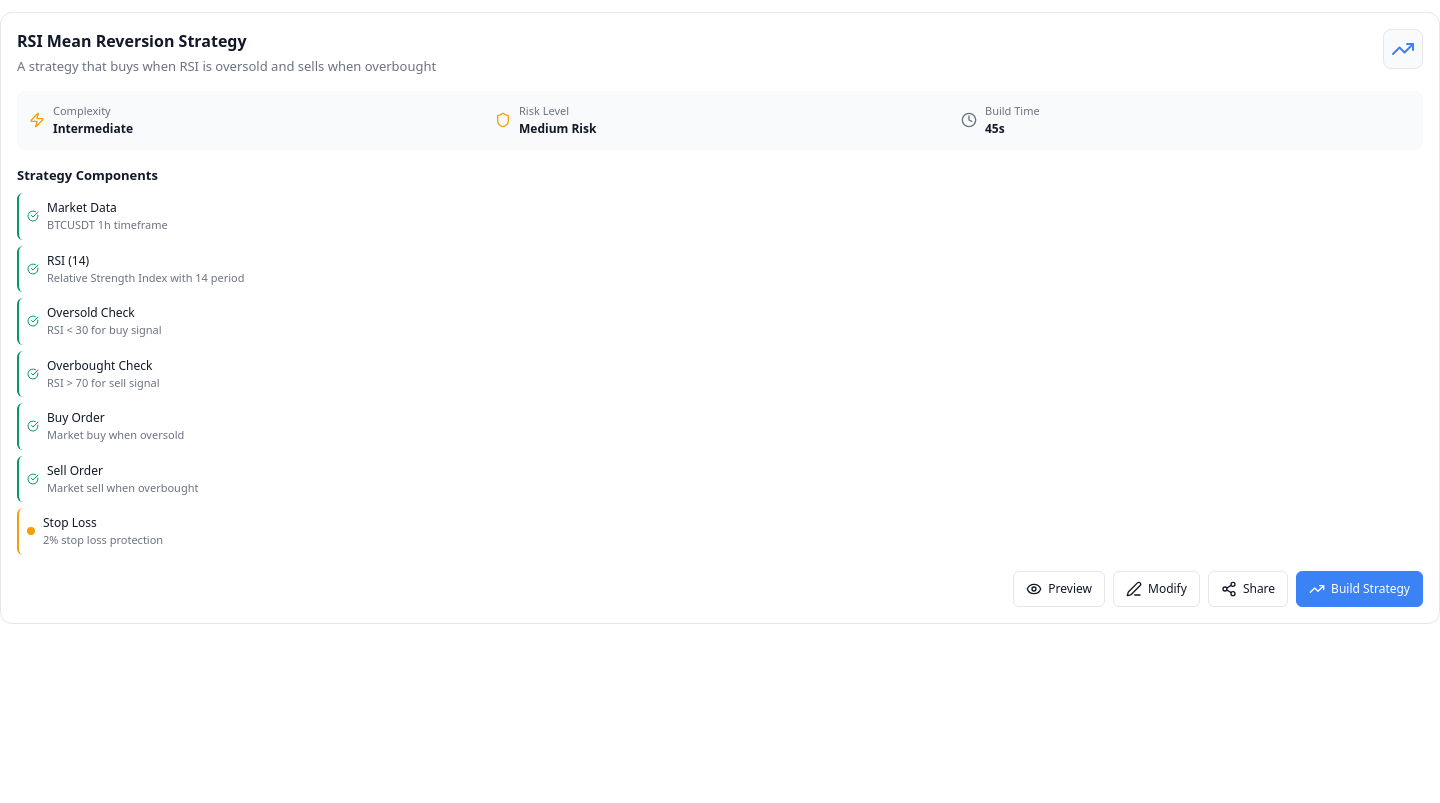
Test: StrategyPreview Component › opens exporter when share button is clicked
The width and height of the screenshot is (1440, 803).
Note: Click share button
Click the button "Share": x=1248, y=589 [1208, 571, 1288, 607]
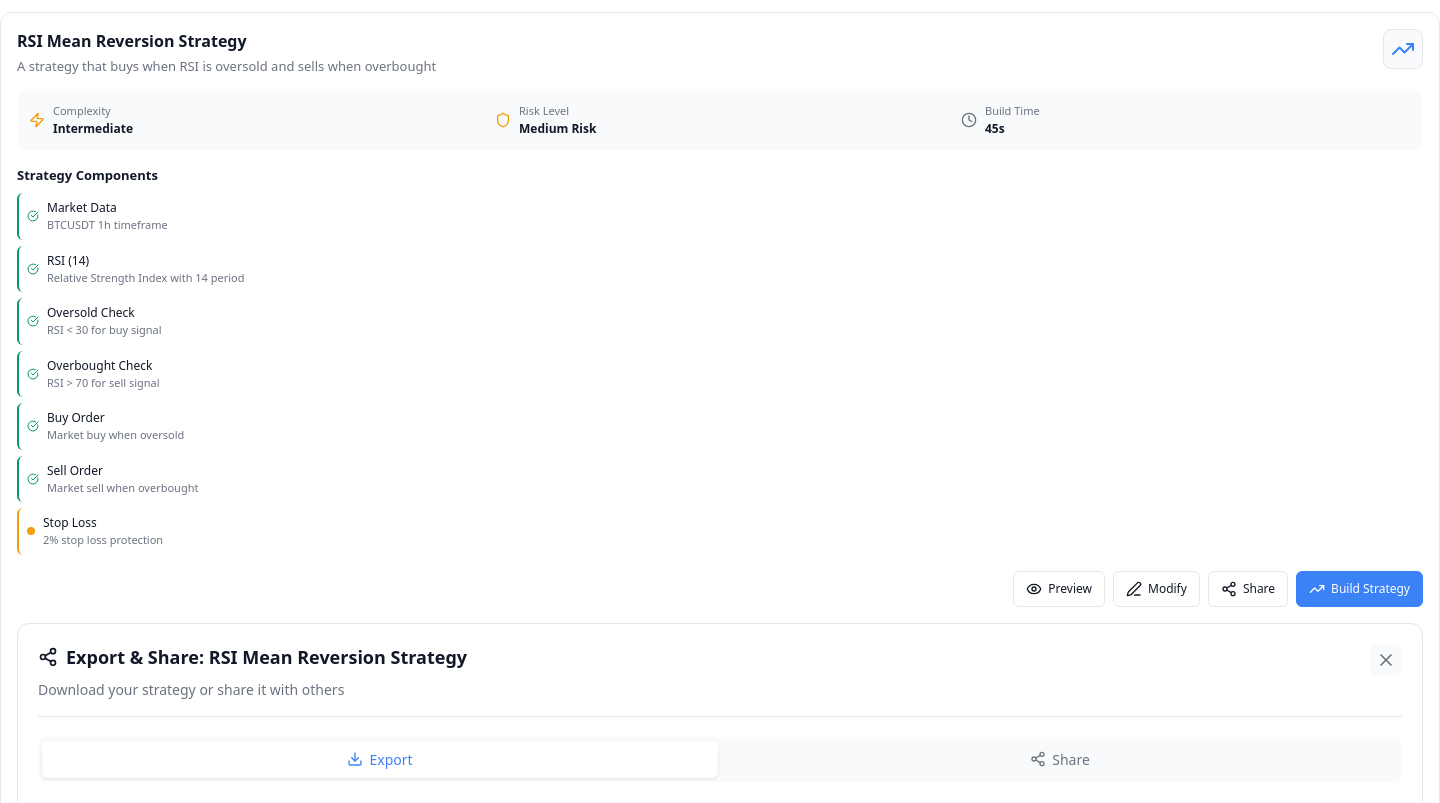
Expected: the heading "Export & Share: RSI Mean Reversion Strategy" is shown, [38, 645, 467, 669]
